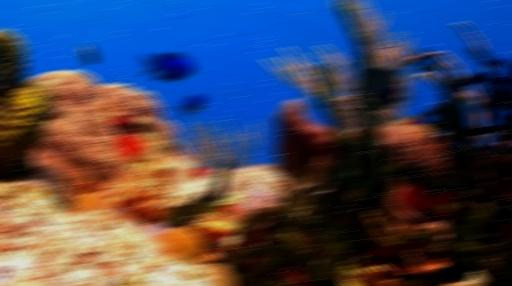Fish: (138, 53, 195, 81), (365, 67, 402, 110), (175, 94, 204, 121), (77, 44, 98, 65), (303, 102, 316, 109)
